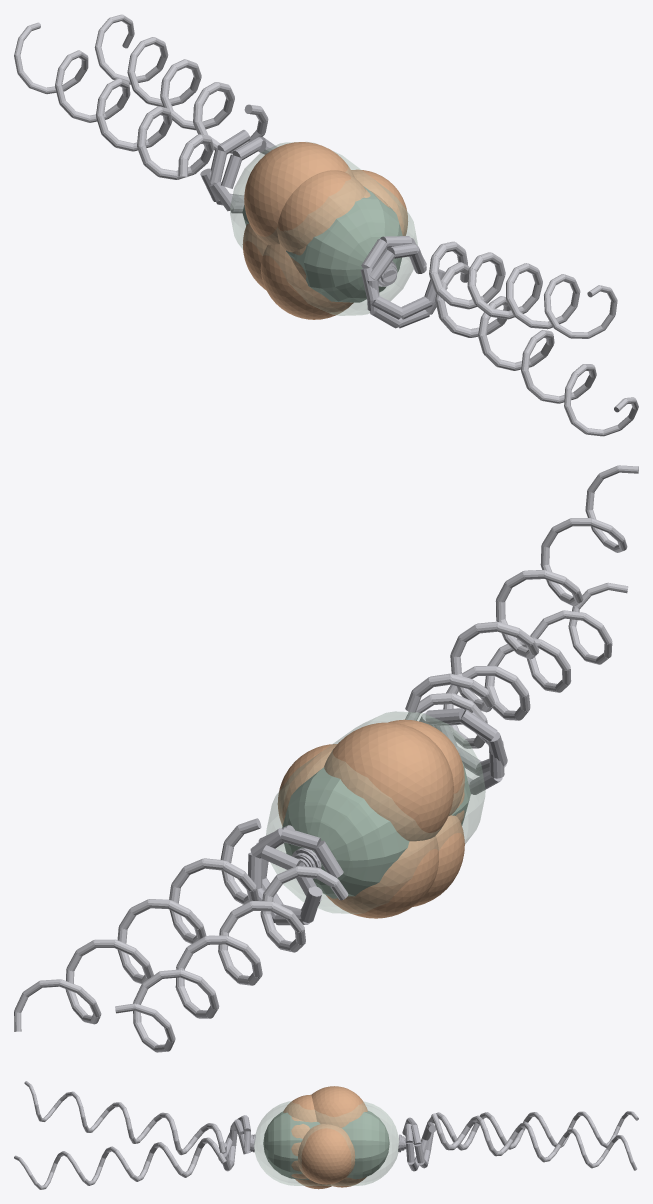
File: bacteria_bacteria_ficticia_alfa_5565125.glb
3 renders of one model, top to bottom at view 1: azimuth 30°, elevation 25°; view 2: azimuth 150°, elevation 25°; view 3: azimuth 270°, elevation 25°, orthographic. The views are drawn at different scales.
Parts seen in each view (by area): view 1: geometry_0, geometry_1, geometry_426, geometry_423, geometry_424, geometry_425, geometry_427; view 2: geometry_0, geometry_426, geometry_1, geometry_427, geometry_424, geometry_425, geometry_423; view 3: geometry_0, geometry_1, geometry_425, geometry_426, geometry_423, geometry_422, geometry_427, geometry_424.
Boxes of the visible parts, <box> form: geometry_0: <box>230,142,417,315</box>; geometry_1: <box>242,186,402,302</box>; geometry_426: <box>244,142,354,244</box>; geometry_423: <box>277,170,365,252</box>; geometry_424: <box>260,244,353,319</box>; geometry_425: <box>351,169,407,235</box>; geometry_427: <box>242,223,267,289</box>; geometry_0: <box>266,711,485,913</box>; geometry_426: <box>324,722,453,841</box>; geometry_1: <box>282,762,470,898</box>; geometry_427: <box>326,835,438,918</box>; geometry_424: <box>413,815,464,906</box>; geometry_425: <box>277,744,337,825</box>; geometry_423: <box>388,719,464,816</box>; geometry_0: <box>254,1101,398,1185</box>; geometry_1: <box>263,1110,389,1179</box>; geometry_425: <box>298,1124,355,1184</box>; geometry_426: <box>311,1086,367,1127</box>; geometry_423: <box>283,1094,316,1122</box>; geometry_422: <box>291,1117,309,1178</box>; geometry_427: <box>331,1177,366,1187</box>; geometry_424: <box>295,1179,331,1189</box>.
Size of the model in its own units: 2.77 by 3.48 by 16.96.
